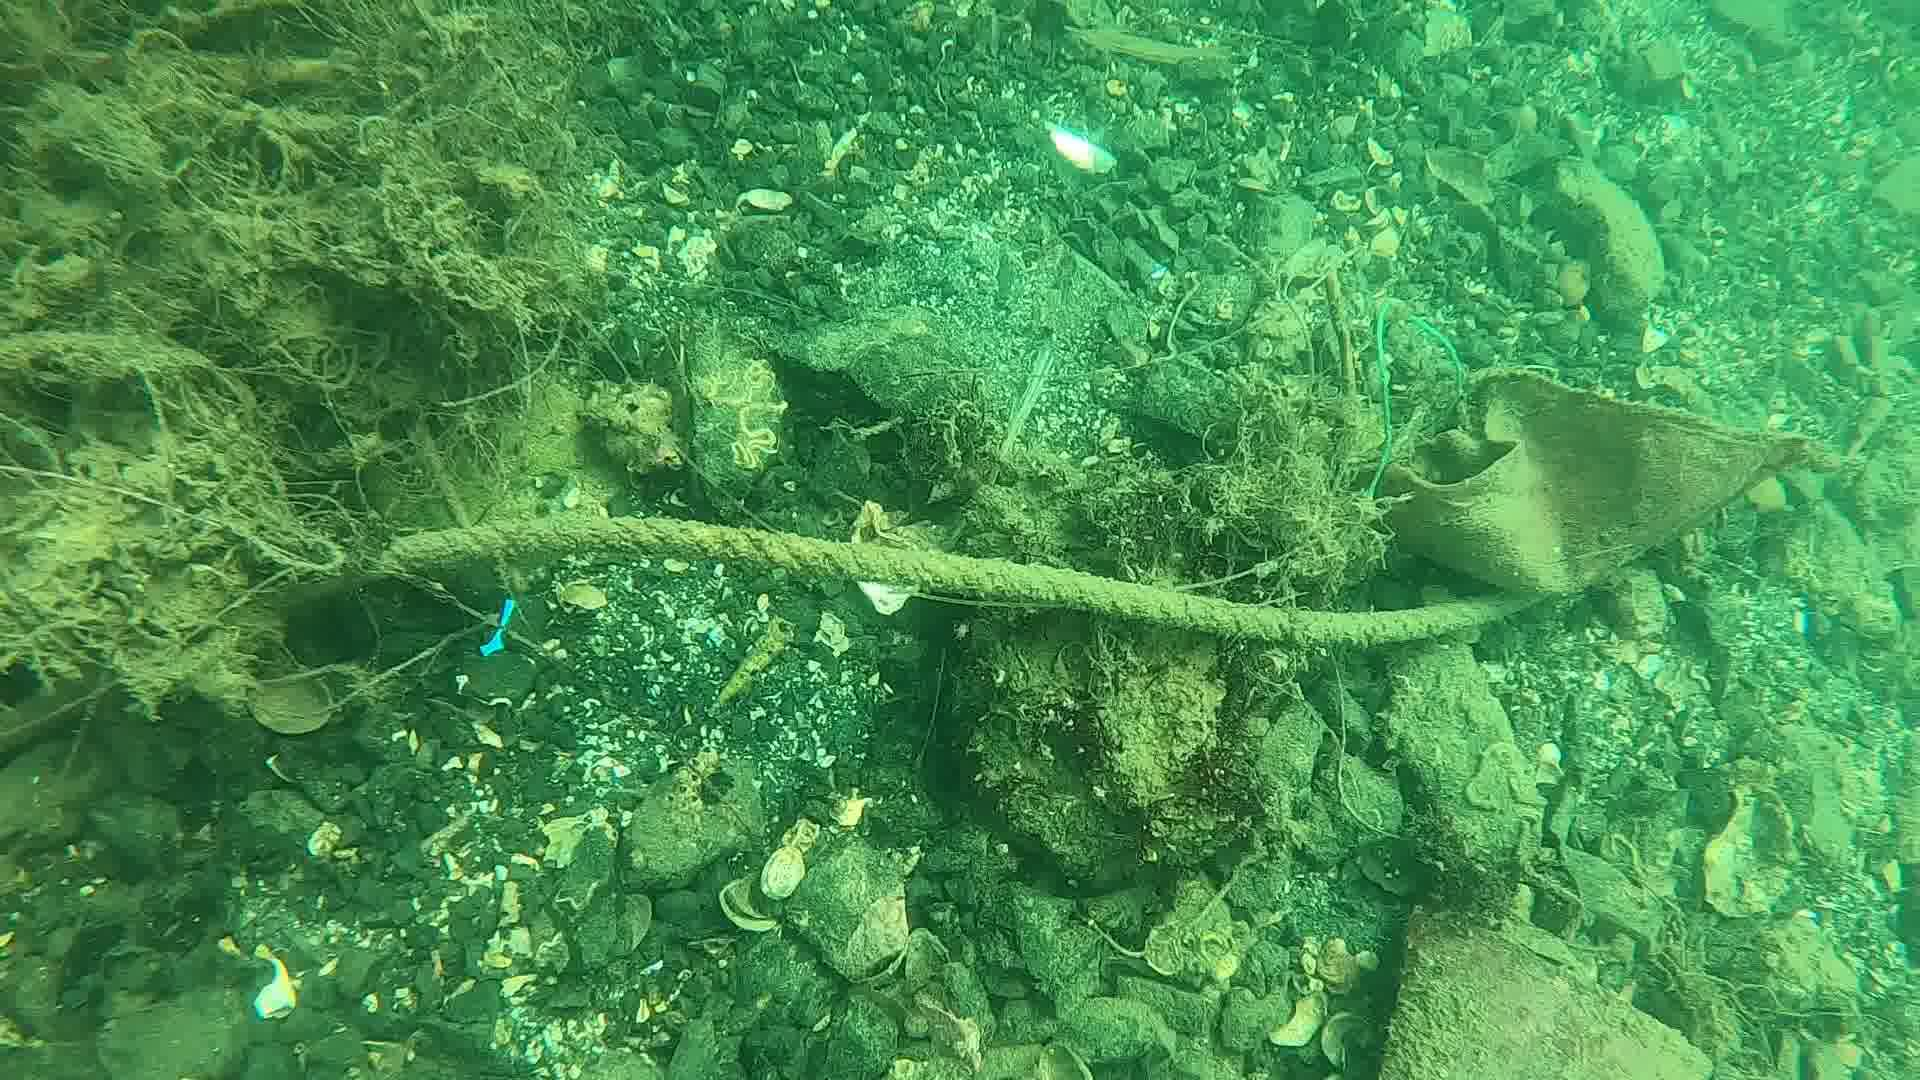rope: (345, 513, 1555, 647)
